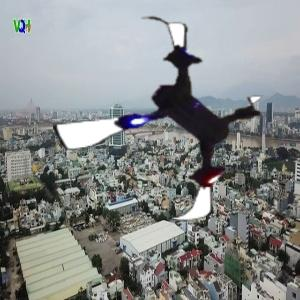drone: (54, 13, 275, 234)
